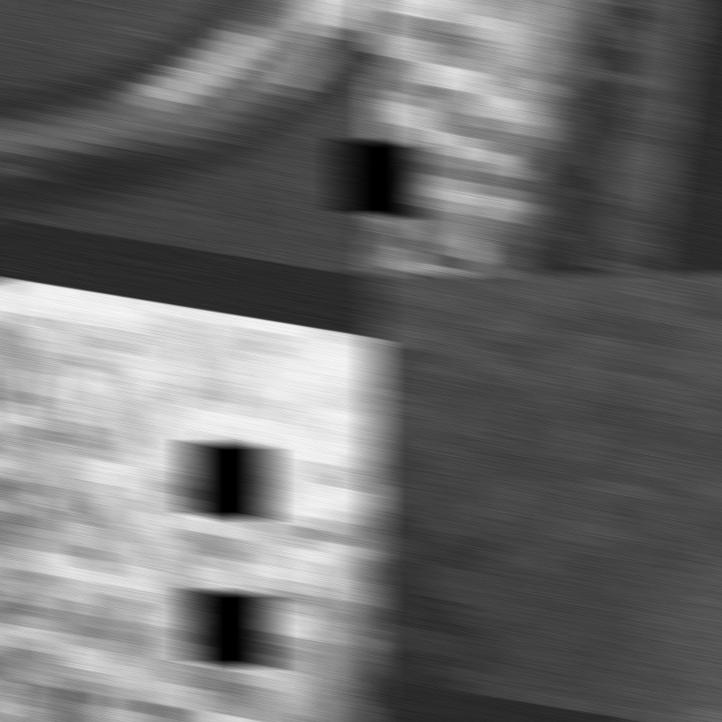Airbag: (0, 273, 382, 722), (368, 273, 722, 722), (0, 0, 382, 275), (368, 0, 722, 275)
